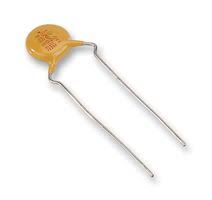ceramic capacitor: (19, 18, 103, 97)
